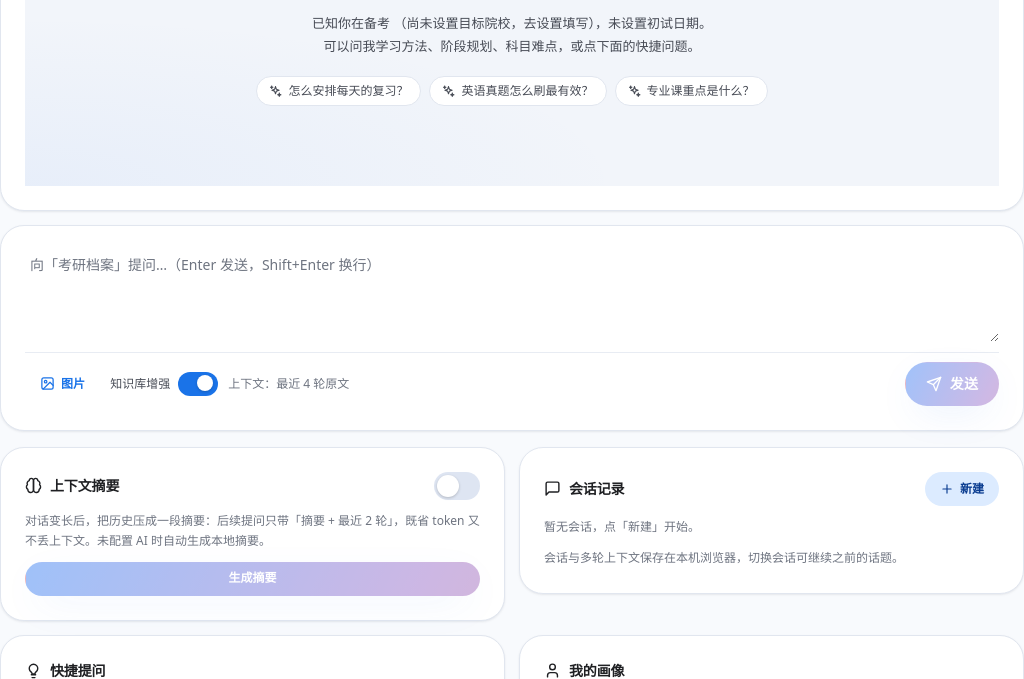
it: AI 助手失败态必须可见（P0-5） › ② 200 空流：出现「空回复」气泡 + 重试按钮
The width and height of the screenshot is (1024, 679).
(page scrolled)
Type "怎么安排每天的复习？" into the text box with placeholder "向「考研档案」提问…（Enter 发送，Shift+Enter 换行）" at [512, 296], box [25,250,999,342]
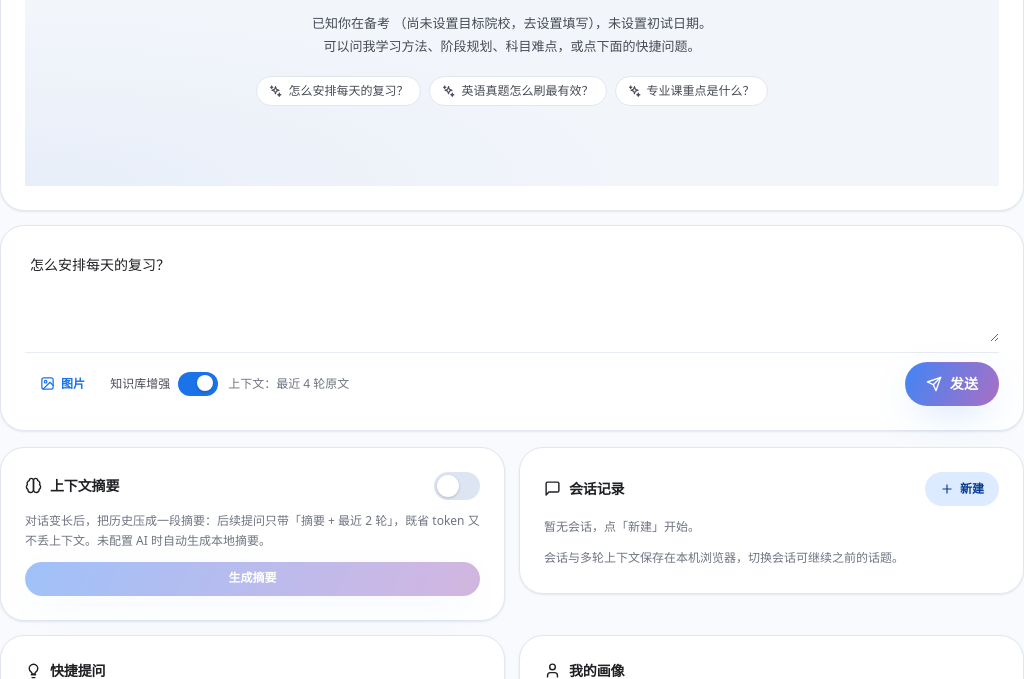
Press Enter in the text box named "向 AI 助手提问", box [25,250,999,342]
(page scrolled)
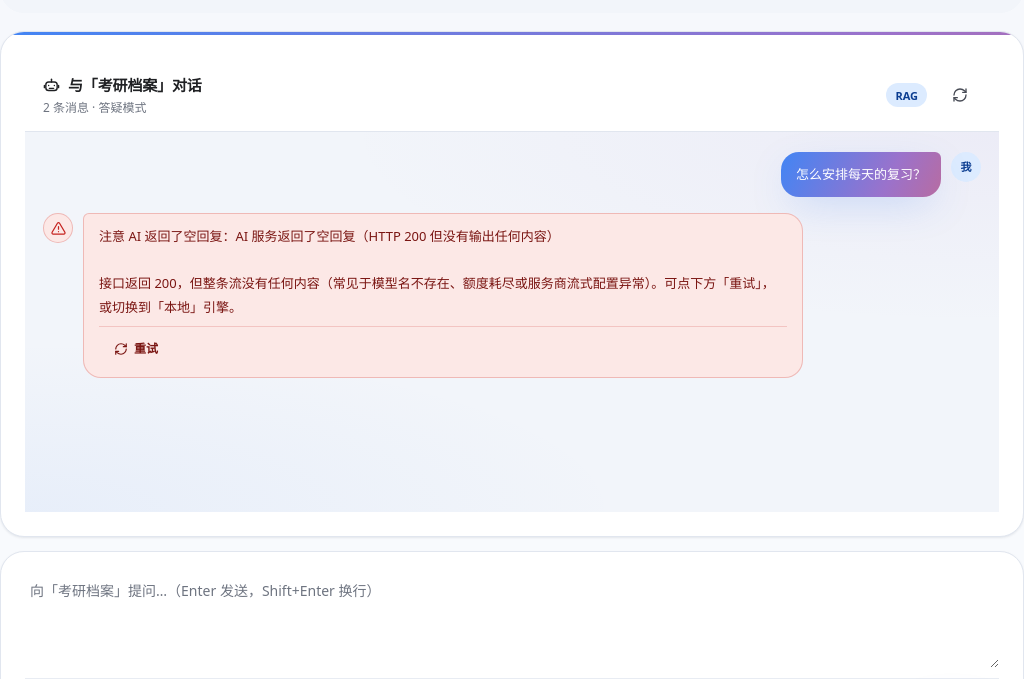
Expected: the 2nd element with class "is-error" is shown, [83,213,803,378]
Expected: the element with class "is-error" shows "返回了空回复", [99,227,775,316]
Expected: the element with class "is-error" shows "重试", [99,332,173,366]
